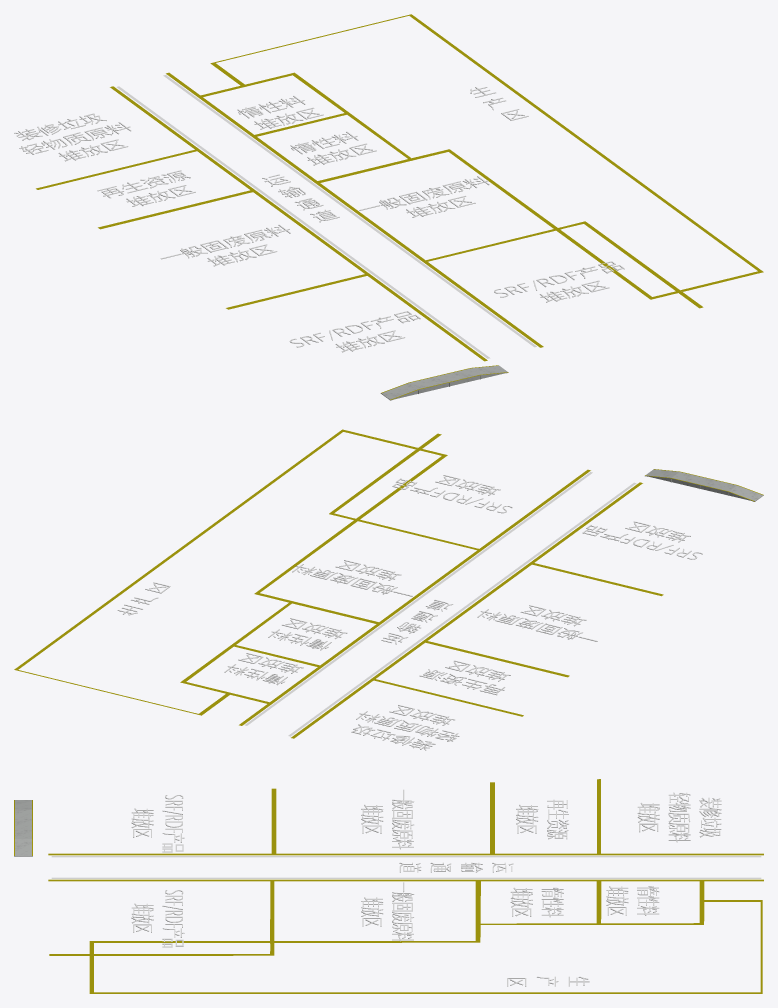
Rendered from biaoxiangai(1).fbx.
3 views of the same model, one above another, from view 1: azimuth 30°, elevation 25°; view 2: azimuth 150°, elevation 25°; view 3: azimuth 270°, elevation 25° (orthographic). The views are drawn at different scales.
Parts seen in each view (by area): view 1: polySurface673, typeMesh24, polySurface676, polySurface672; view 2: polySurface673, typeMesh24, polySurface676, polySurface672; view 3: polySurface673, typeMesh24, polySurface676, polySurface672.
Boxes of the visible parts, x1=… form: polySurface673: x1=36, y1=14, x2=763, y2=399; typeMesh24: x1=14, y1=87, x2=624, y2=352; polySurface676: x1=116, y1=75, x2=536, y2=358; polySurface672: x1=380, y1=365, x2=508, y2=400; polySurface673: x1=14, y1=429, x2=763, y2=738; typeMesh24: x1=117, y1=475, x2=702, y2=750; polySurface676: x1=245, y1=472, x2=636, y2=736; polySurface672: x1=645, y1=469, x2=763, y2=501; polySurface673: x1=14, y1=779, x2=763, y2=993; typeMesh24: x1=131, y1=789, x2=721, y2=986; polySurface676: x1=51, y1=856, x2=761, y2=878; polySurface672: x1=14, y1=800, x2=32, y2=856.
Bounding box in the file's own units: 75 × 0.8902 × 111.
